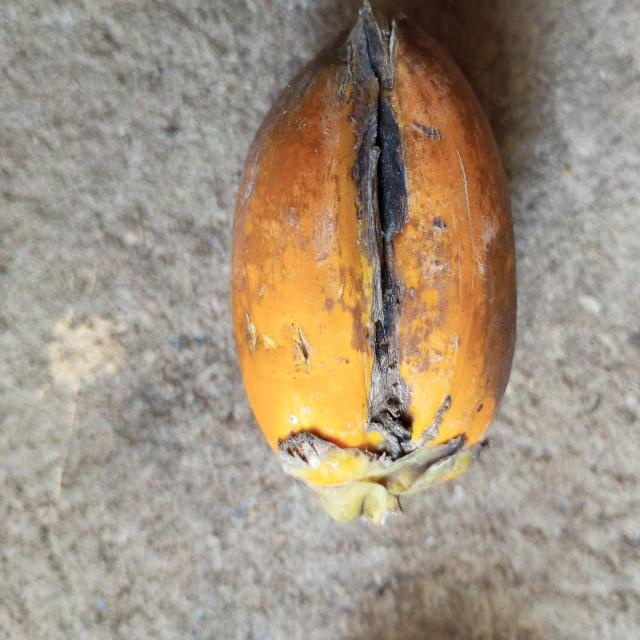damaged: (229, 1, 518, 523)
